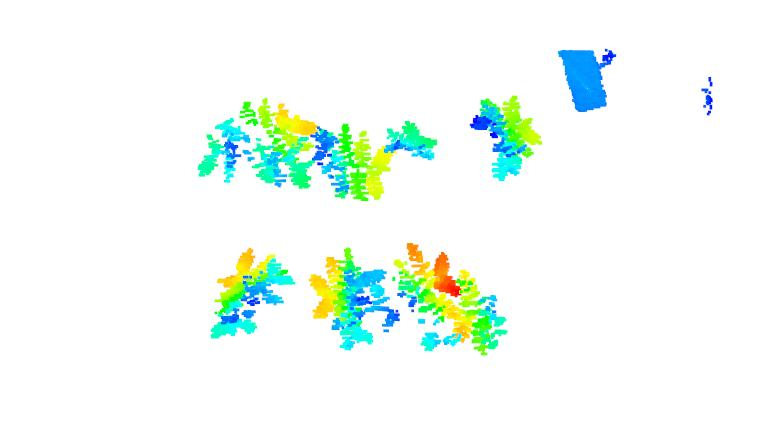chickpea: (198, 95, 321, 195), (308, 245, 394, 351), (311, 103, 396, 203), (429, 266, 513, 365), (209, 247, 292, 341), (471, 93, 549, 179), (387, 235, 456, 329), (387, 114, 449, 163)
